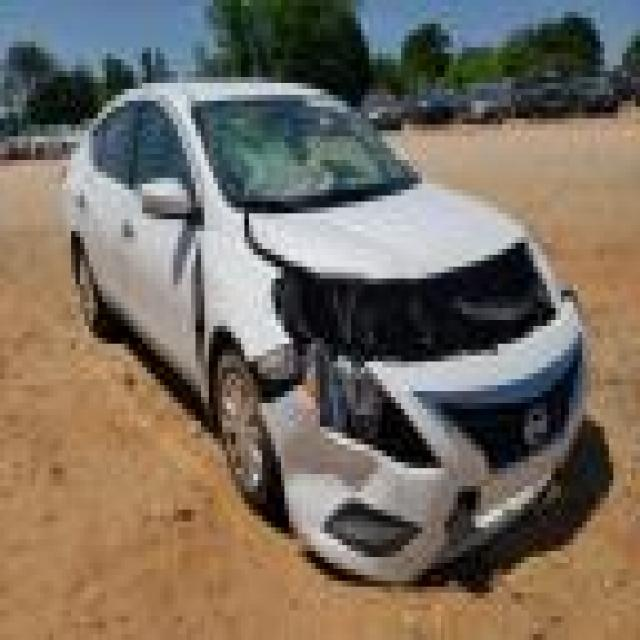severe: (178, 195, 586, 524)
